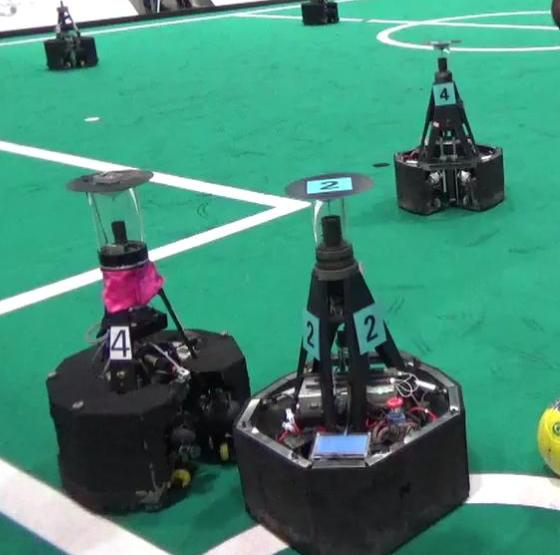robot: (233, 168, 476, 555), (41, 161, 254, 520), (390, 41, 510, 221)
